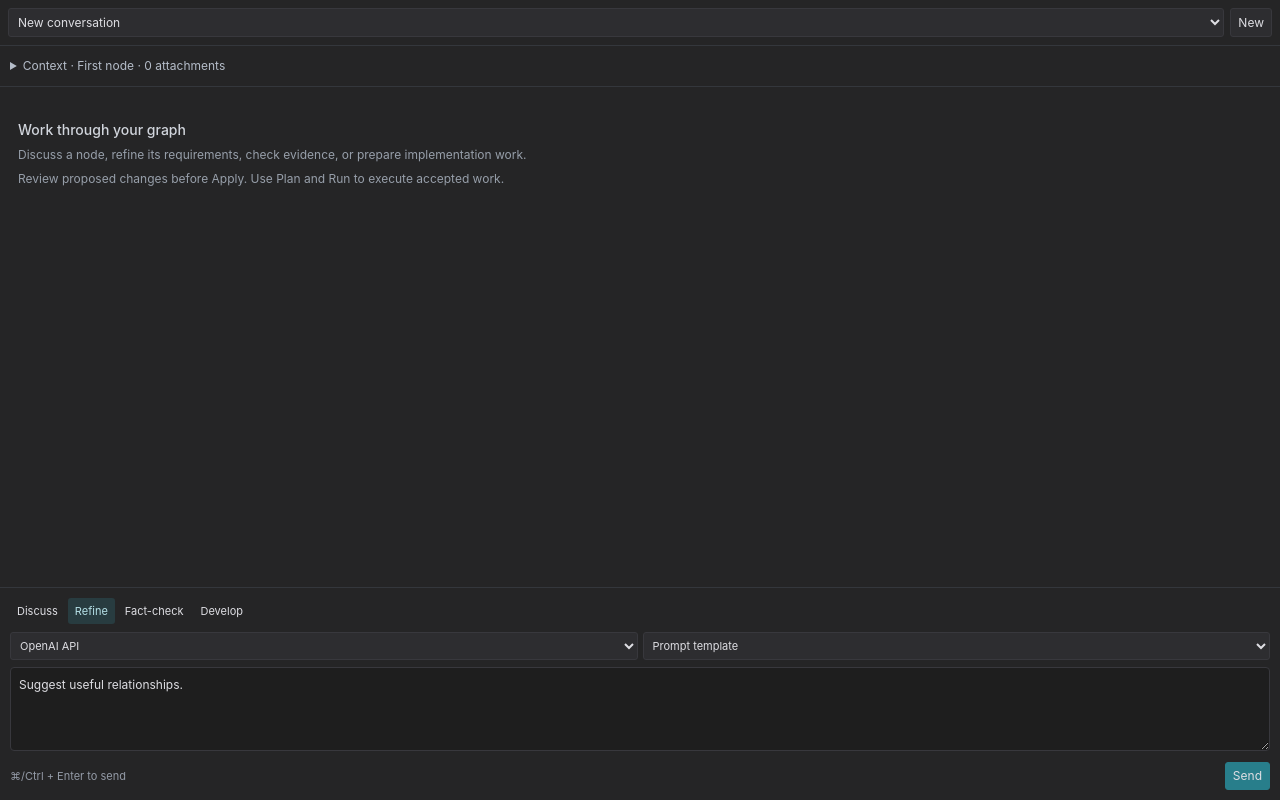
Test: AI chat › sends custom scoped action only after saving draft, then shows reviewable changes
expect the text box named "Message AI" holds "Suggest useful relationships.": met, box [10,667,1270,751]
Click the button "Send".
click(1247, 776)  # box [1225,762,1270,790]
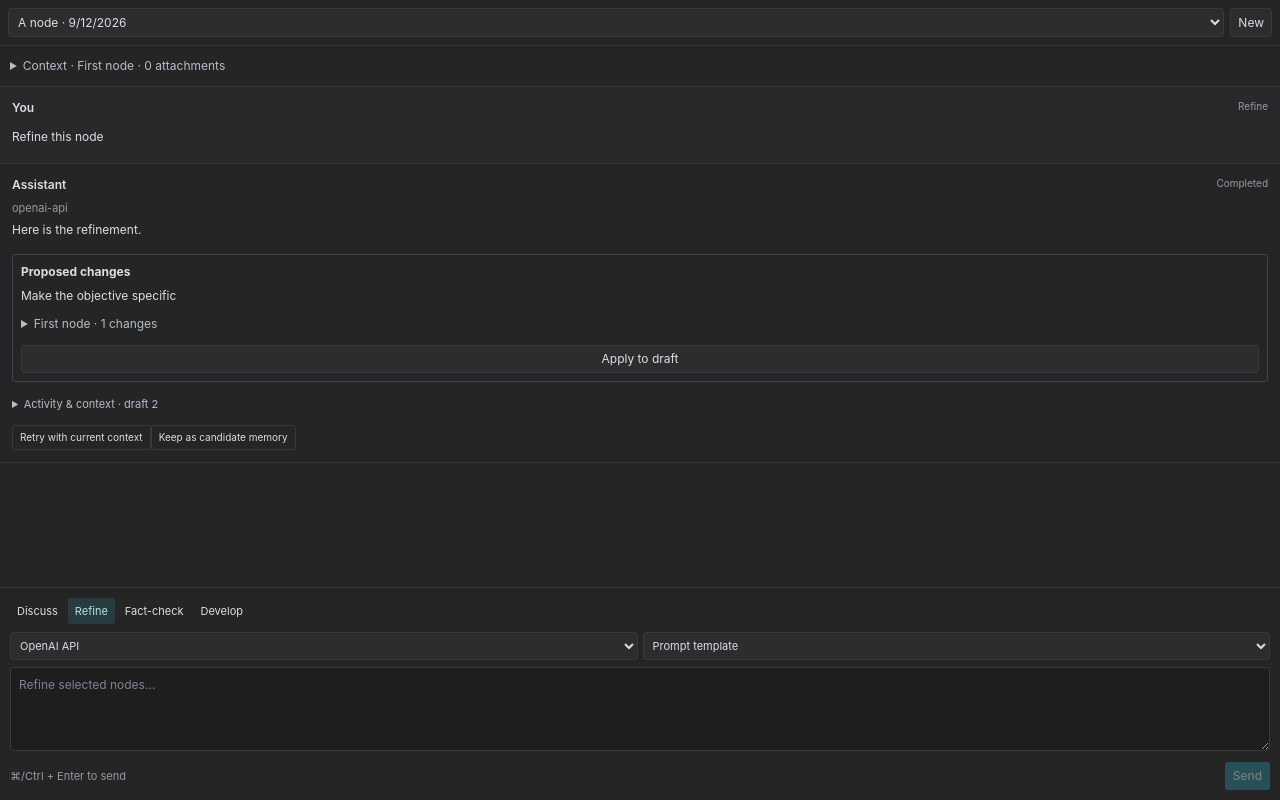
expect the text "Here is the refinement." is shown: met, box [12,222,141,237]
expect the button "Apply to draft" is enabled: met, box [21,345,1259,373]
